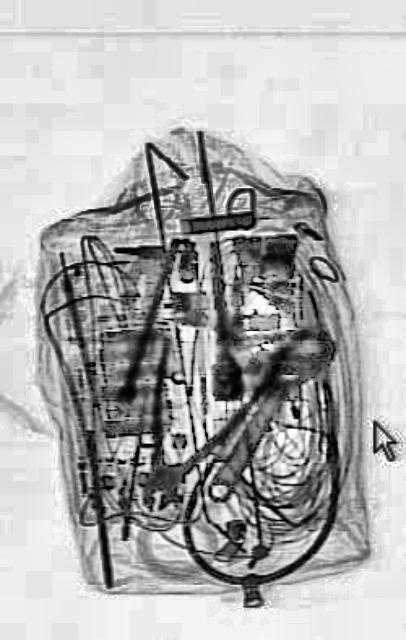Pliers: (107, 332, 249, 546)
Wrench: (192, 304, 338, 522)
